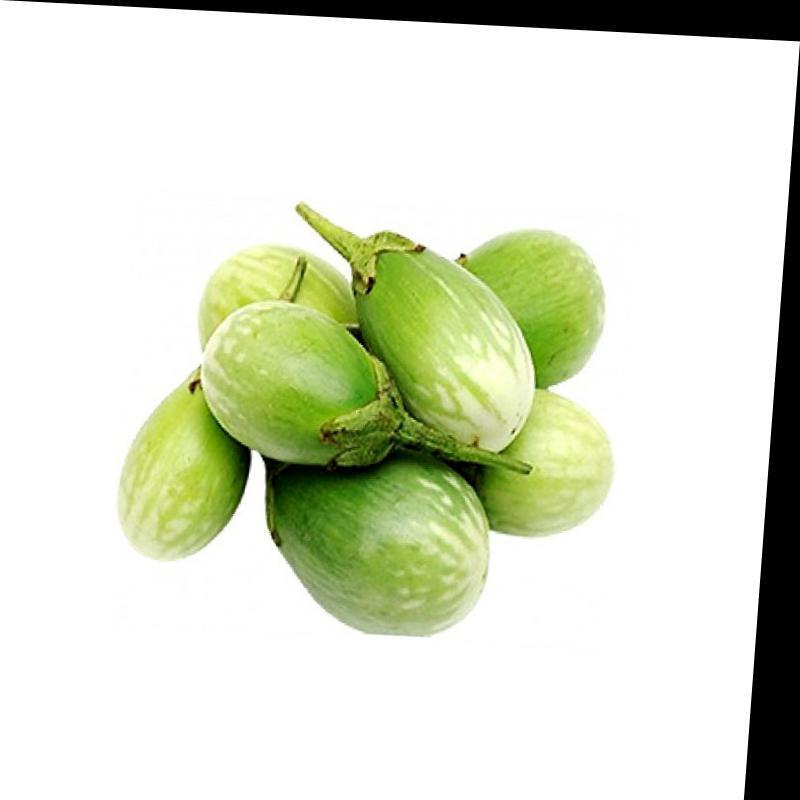eggplant: (75, 144, 675, 674)
